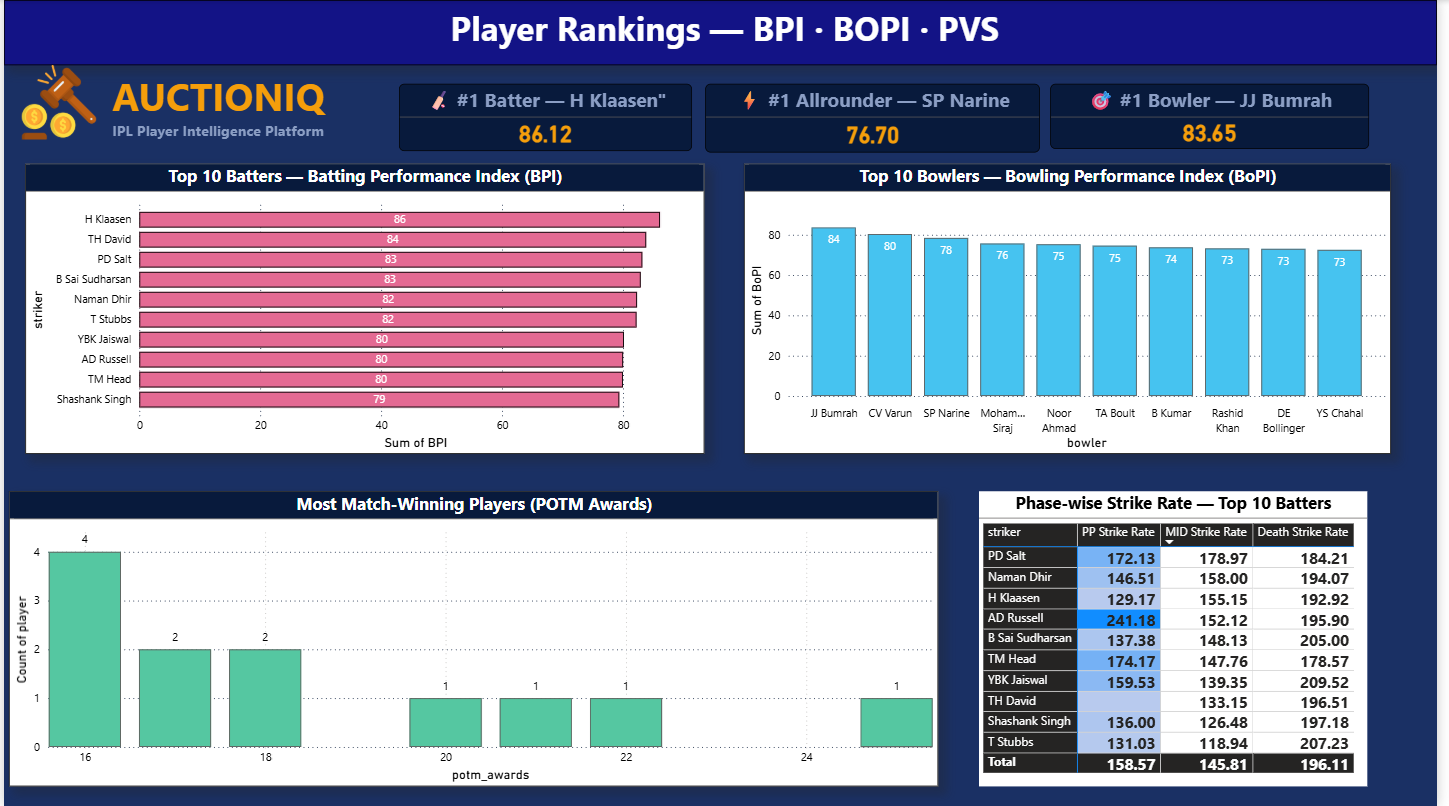

What the dashboard file says about the page in this screenshot:
{"tool":"powerbi","page":{"name":"Duplicate of Page 1","canvas":[1600,900],"ordinal":1},"visuals":[{"type":"textbox","box":[152.7,15.4,257.3,94.3],"z":0},{"type":"textbox","box":[387.7,0,874.8,101.2],"z":1000},{"type":"card","title":"🏏 #1 Batter — H Klaasen\"","fields":{"Values":["Mea.Top Batter BPI"]},"box":[60,133.8,380.8,109.8],"z":2000},{"type":"card","title":"🎯 #1 Bowler — JJ Bumrah","fields":{"Values":["Mea.Top Bowler BPI"]},"box":[943.4,133.8,380.8,111.5],"z":3000},{"type":"card","title":"⚡ #1 Allrounder — SP Narine","fields":{"Values":["Mea.Top Allrounder PVS"]},"box":[485.4,133.8,404.8,109.8],"z":4000},{"type":"image","box":[42.9,10.3,109.8,82.3],"z":10000},{"type":"clusteredBarChart","title":"Top 10 Batters — Batting Performance Index (BPI)","fields":{"Category":["batting_top100.striker"],"Y":["Sum(batting_top100.BPI)"]},"box":[60,283,656.9,265.9],"z":10001},{"type":"clusteredBarChart","title":"Top 10 Bowlers — Bowling Performance Index (BoPI)","fields":{"Category":["bowling_top100.bowler"],"Y":["Sum(bowling_top100.BoPI)"]},"box":[758.2,283,656.9,265.9],"z":10002},{"type":"pivotTable","title":"Phase-wise Strike Rate — Top 10 Batters","fields":{"Rows":["batting_top100.striker"],"Values":["Mea.PP Strike Rate","Mea.MID Strike Rate","Mea.Death Strike Rate"]},"box":[58.3,590.1,427.1,265.9],"z":10003},{"type":"clusteredColumnChart","title":"Most Match-Winning Players (POTM Awards)","fields":{"Y":["CountNonNull(potm_awards.player)"],"Category":["potm_awards.potm_awards"]},"box":[662.1,548.9,876.5,329.3],"z":10004}]}

Visuals, with their boxes in screenshot pixels (x1, y1, x2, y2), scaled from the page's 1600x900 canvas onto the 1449x806 screenshot:
textbox: (138, 14, 371, 98)
textbox: (351, 0, 1143, 91)
"🏏 #1 Batter — H Klaasen"" card: (54, 120, 399, 218)
"🎯 #1 Bowler — JJ Bumrah" card: (854, 120, 1199, 220)
"⚡ #1 Allrounder — SP Narine" card: (440, 120, 806, 218)
image: (39, 9, 138, 83)
"Top 10 Batters — Batting Performance Index (BPI)" clusteredBarChart: (54, 253, 649, 492)
"Top 10 Bowlers — Bowling Performance Index (BoPI)" clusteredBarChart: (687, 253, 1282, 492)
"Phase-wise Strike Rate — Top 10 Batters" pivotTable: (53, 528, 440, 767)
"Most Match-Winning Players (POTM Awards)" clusteredColumnChart: (600, 492, 1393, 786)
